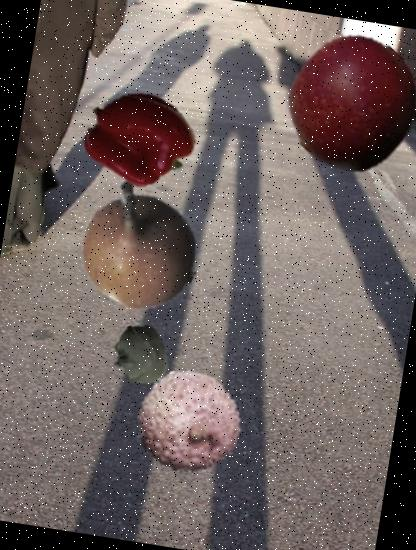Granadilla: (74, 184, 209, 318)
Kohlrabi: (104, 320, 174, 390)
Lychee: (128, 362, 250, 482)
Nectarine: (277, 27, 416, 180)
Pepper: (79, 80, 197, 198)
